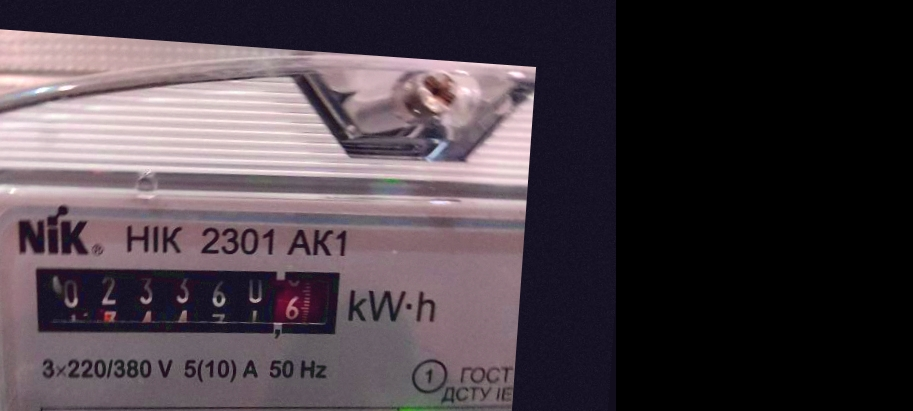0: (57, 274, 82, 310), (241, 273, 265, 305)
2: (97, 272, 119, 306)
3: (171, 270, 192, 304), (133, 273, 154, 306)
6: (206, 274, 229, 309), (280, 289, 303, 323)
screen: (13, 240, 357, 359)
